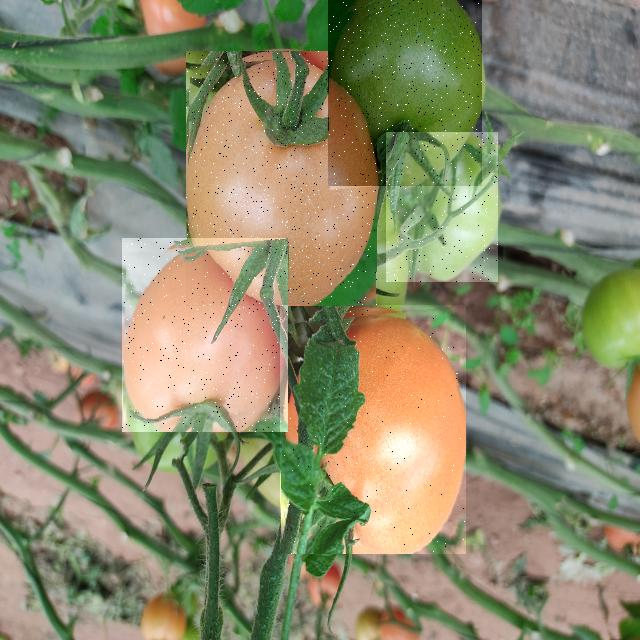Ripe Tomato: (186, 51, 377, 306), (280, 305, 466, 554), (122, 238, 288, 432)
Unripe Tomato: (328, 0, 482, 186), (386, 132, 498, 282)
